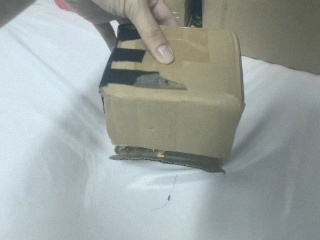box: (99, 25, 246, 173), (148, 1, 203, 27)
